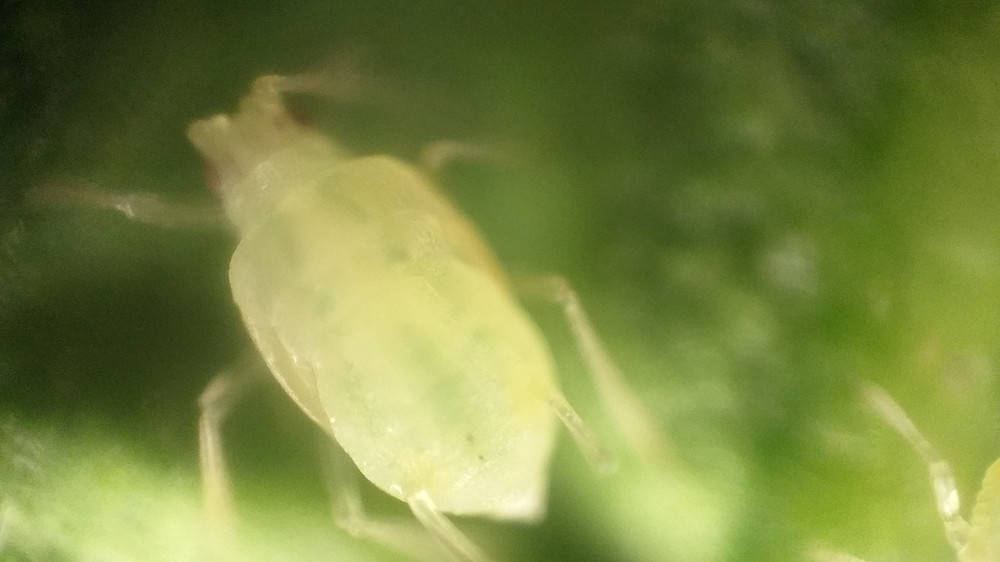Pulgon: (50, 17, 742, 558)
